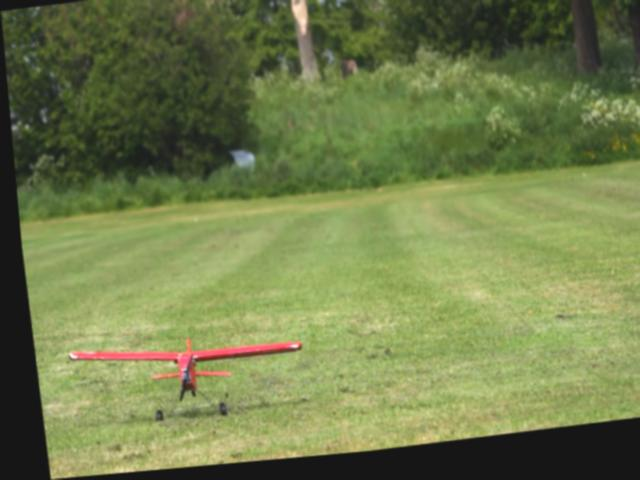plane: (61, 330, 300, 433)
